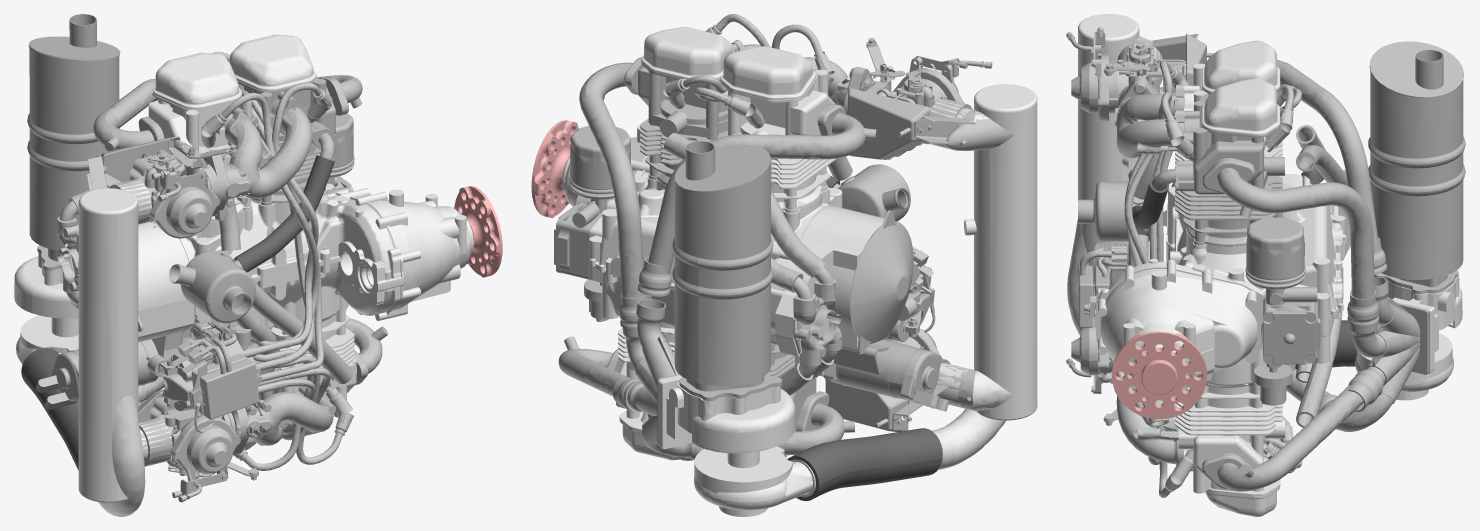
File: engine_block.glb
The picture shows the model from 3 angles, left to right: view 1: azimuth 30°, elevation 25°; view 2: azimuth 150°, elevation 25°; view 3: azimuth 270°, elevation 25°; orthographic projection. The views are drawn at different scales.
Parts seen in each view (by area): view 1: empty_17, empty_12, empty_44, empty_3, empty_260, empty_45, empty_11, empty_21, empty_39, empty_9, empty_10, empty_323 (+31 smaller); view 2: empty_12, empty_17, empty_21, empty_11, empty_20, empty_18, empty_263, empty_25, empty_181, empty_19, empty_26, empty_22 (+28 smaller); view 3: empty_12, empty_3, empty_44, empty_26, empty_24, empty_17, empty_18, empty_660, empty_15, empty_21, empty_260, empty_10 (+37 smaller).
Part boxes in pixels (bbox=[...]): empty_17: bbox=[78, 179, 172, 516]; empty_12: bbox=[27, 14, 120, 270]; empty_44: bbox=[179, 183, 403, 286]; empty_3: bbox=[335, 188, 473, 318]; empty_260: bbox=[201, 96, 315, 220]; empty_45: bbox=[180, 254, 403, 344]; empty_11: bbox=[71, 222, 194, 359]; empty_21: bbox=[14, 252, 78, 364]; empty_39: bbox=[169, 251, 255, 322]; empty_9: bbox=[152, 52, 241, 109]; empty_10: bbox=[229, 34, 316, 91]; empty_323: bbox=[189, 337, 261, 419]; empty_12: bbox=[672, 141, 782, 401]; empty_17: bbox=[930, 84, 1037, 469]; empty_21: bbox=[658, 375, 815, 516]; empty_11: bbox=[771, 206, 913, 376]; empty_20: bbox=[787, 428, 942, 501]; empty_18: bbox=[579, 57, 644, 298]; empty_263: bbox=[848, 88, 1013, 159]; empty_25: bbox=[720, 69, 836, 213]; empty_181: bbox=[850, 210, 919, 354]; empty_19: bbox=[648, 104, 876, 273]; empty_26: bbox=[638, 43, 738, 185]; empty_22: bbox=[823, 339, 949, 411]; empty_12: bbox=[1368, 41, 1465, 294]; empty_3: bbox=[1098, 264, 1257, 400]; empty_44: bbox=[1094, 184, 1346, 321]; empty_26: bbox=[1175, 101, 1284, 246]; empty_24: bbox=[1175, 380, 1284, 496]; empty_17: bbox=[1067, 14, 1162, 335]; empty_18: bbox=[1202, 158, 1374, 299]; empty_660: bbox=[1111, 331, 1207, 419]; empty_15: bbox=[1202, 385, 1363, 491]; empty_21: bbox=[1355, 275, 1462, 400]; empty_260: bbox=[1115, 76, 1183, 158]; empty_10: bbox=[1202, 78, 1280, 136].
Bounding box in the file's own units: 0.6616 × 0.5757 × 0.5189.
